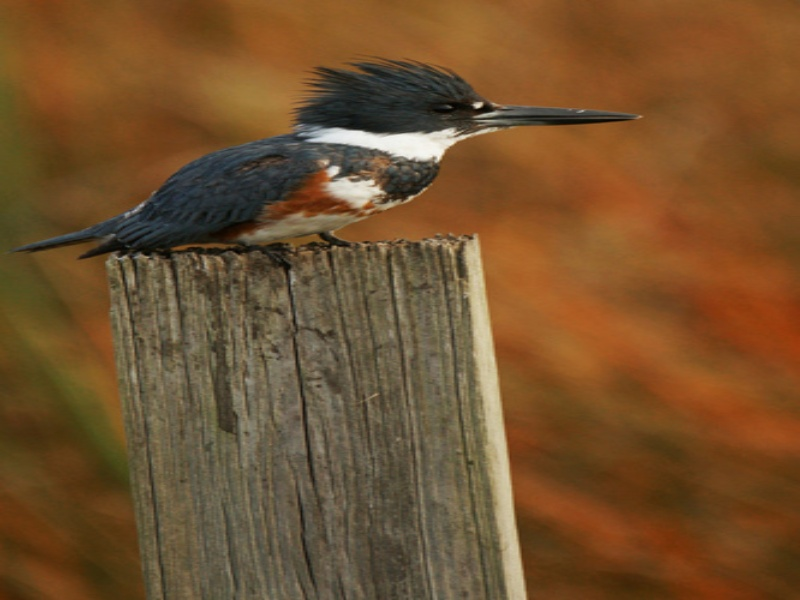kingfisher: (15, 50, 647, 269)
